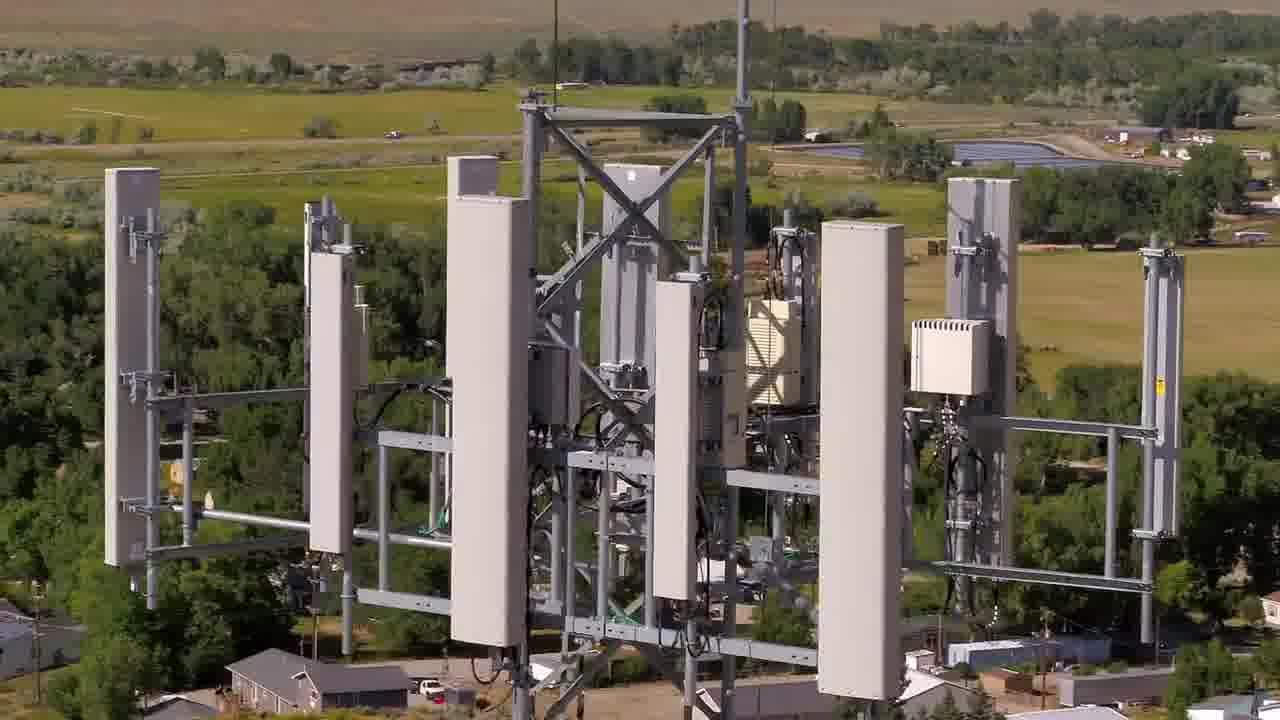antenna: (809, 203, 912, 710), (442, 172, 546, 657), (943, 159, 1022, 586), (88, 152, 167, 573), (591, 153, 664, 446), (1131, 231, 1193, 564), (307, 240, 365, 558)
